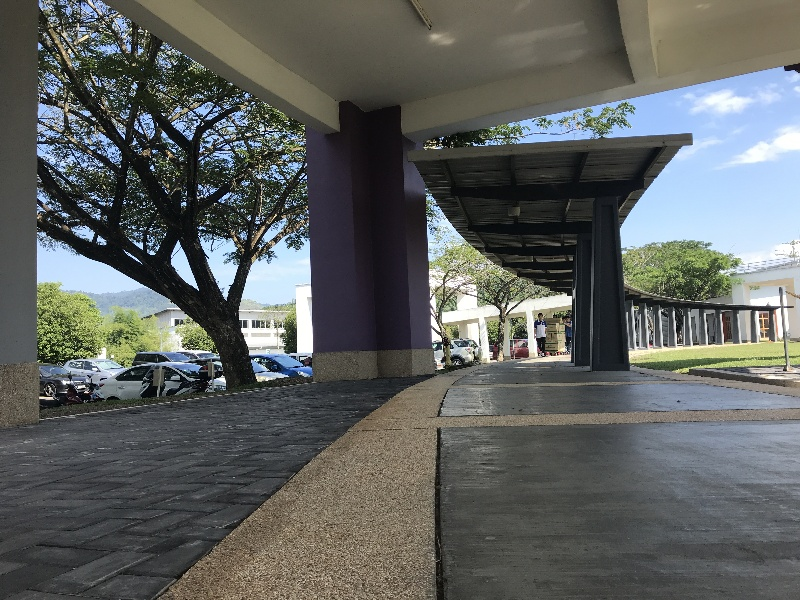Block D Pillar 5: (11, 6, 800, 555)
pillar: (282, 90, 450, 381), (1, 6, 58, 442), (570, 193, 646, 381)
